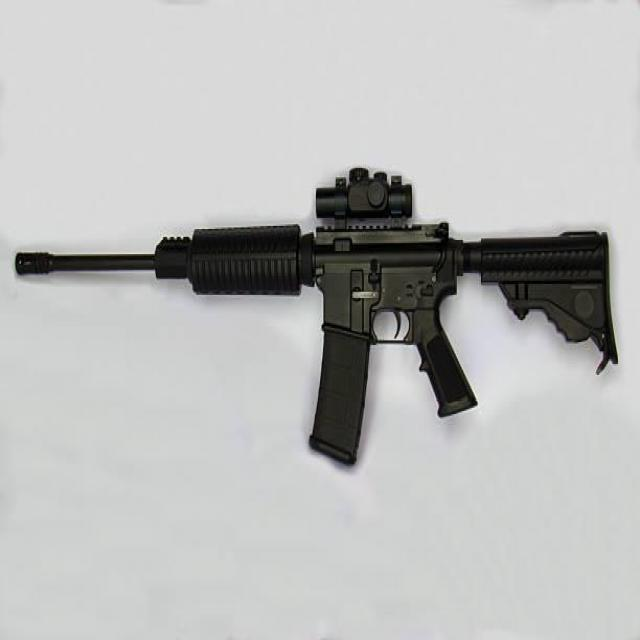weapon: (14, 167, 619, 467)
